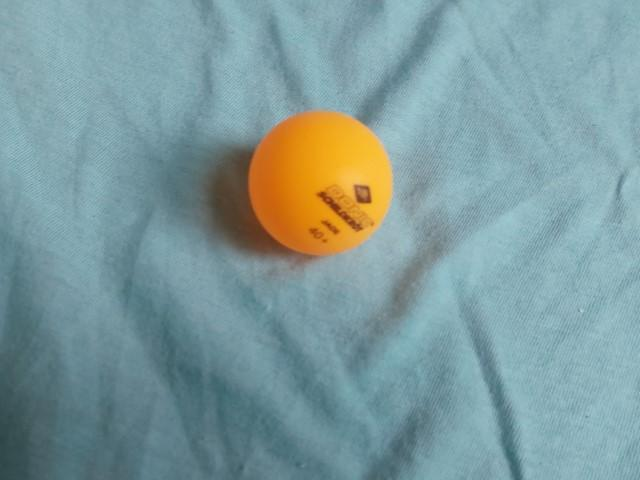oball: (240, 107, 400, 262)
